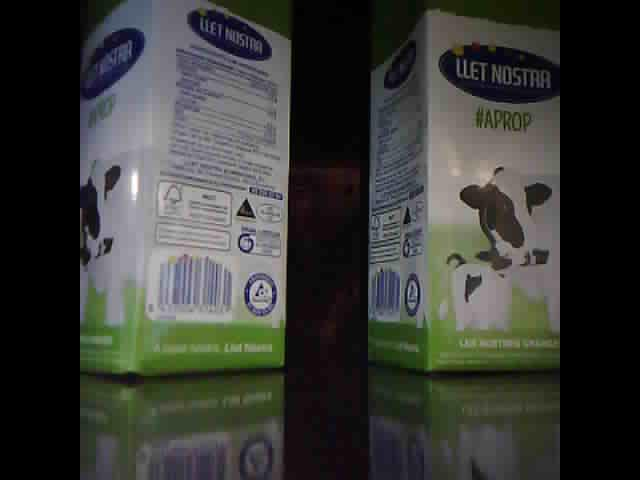leche: (79, 5, 289, 375), (369, 2, 561, 374)
